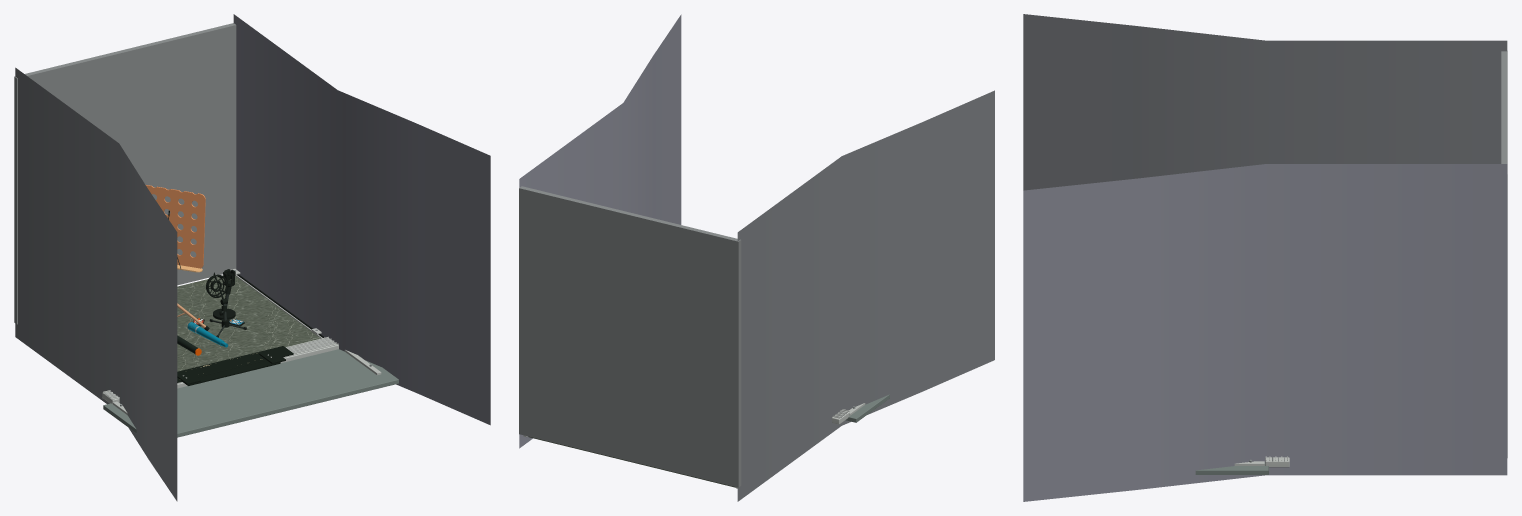
Rendered from codex.glb.
3 views of the same model, side by side, from view 1: azimuth 30°, elevation 25°; view 2: azimuth 150°, elevation 25°; view 3: azimuth 270°, elevation 25° (orthographic). The views are drawn at different scales.
Parts seen in each view (by area): view 1: Right wall, Left wall, Back wall, Lower infill panel, Marble platform, Rounded peach perforated music desk, Wide black rail mounting plate, Front extruded silver crossrail, Center lower hanging metal tongue; view 2: Left wall, Back wall, Right wall; view 3: Right wall, Left wall, Back wall, Lower infill panel.
Part boxes in pixels (x1,y1,x2,y2): Right wall: [233, 14, 490, 425]; Left wall: [15, 67, 177, 501]; Back wall: [14, 23, 236, 324]; Lower infill panel: [103, 349, 398, 437]; Marble platform: [177, 275, 320, 371]; Rounded peach perforated music desk: [146, 185, 205, 268]; Wide black rail mounting plate: [177, 346, 293, 382]; Front extruded silver crossrail: [102, 338, 338, 404]; Center lower hanging metal tongue: [183, 360, 280, 385]; Left wall: [737, 90, 994, 501]; Back wall: [519, 186, 741, 487]; Right wall: [519, 14, 681, 448]; Right wall: [1023, 164, 1507, 501]; Left wall: [1023, 14, 1507, 190]; Back wall: [1501, 51, 1507, 457]; Lower infill panel: [1195, 463, 1268, 474].
Size of the model in its own units: 3.6 by 2.96 by 4.17.
25 materials, 1 textured.
